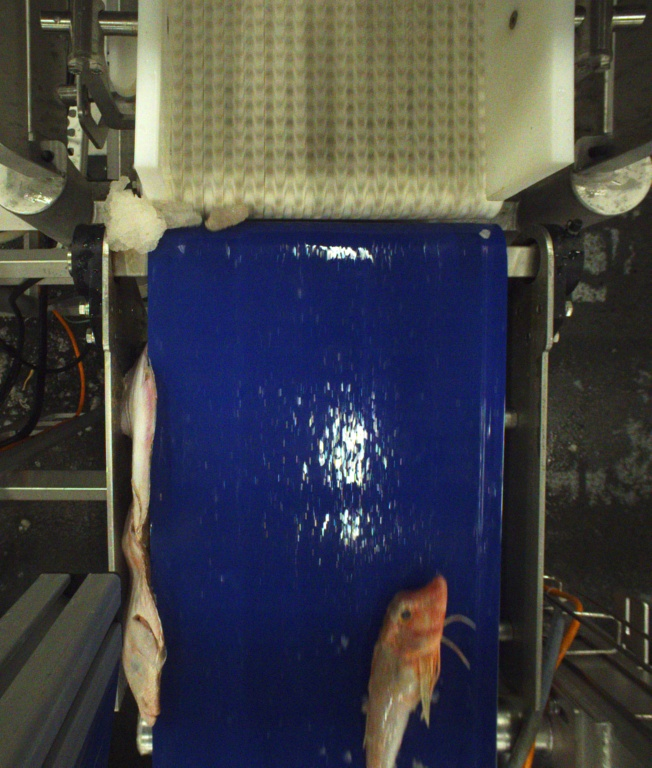GUU: (364, 575, 476, 768)
